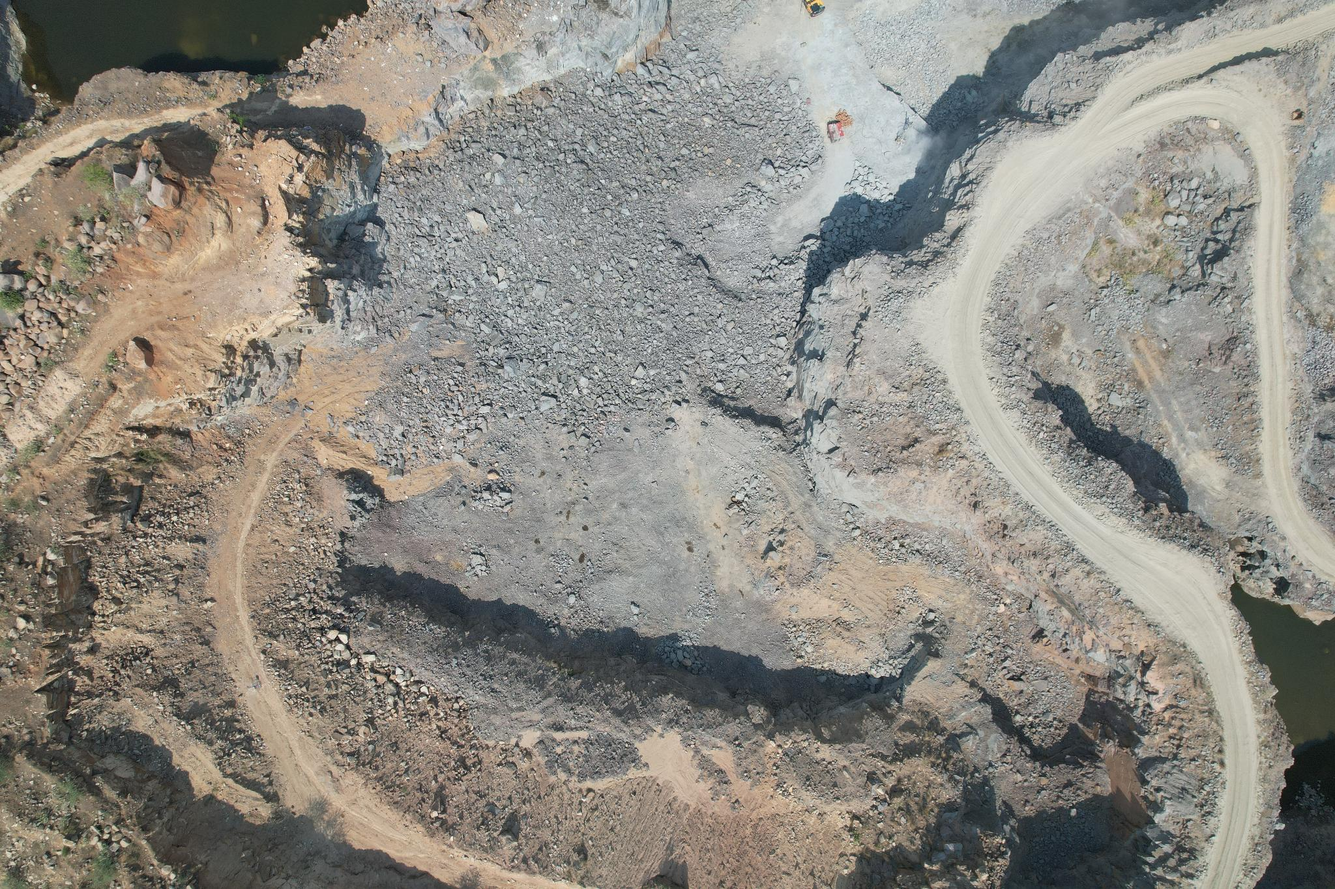benches: (928, 4, 1334, 888)
excavator: (801, 0, 827, 20)
